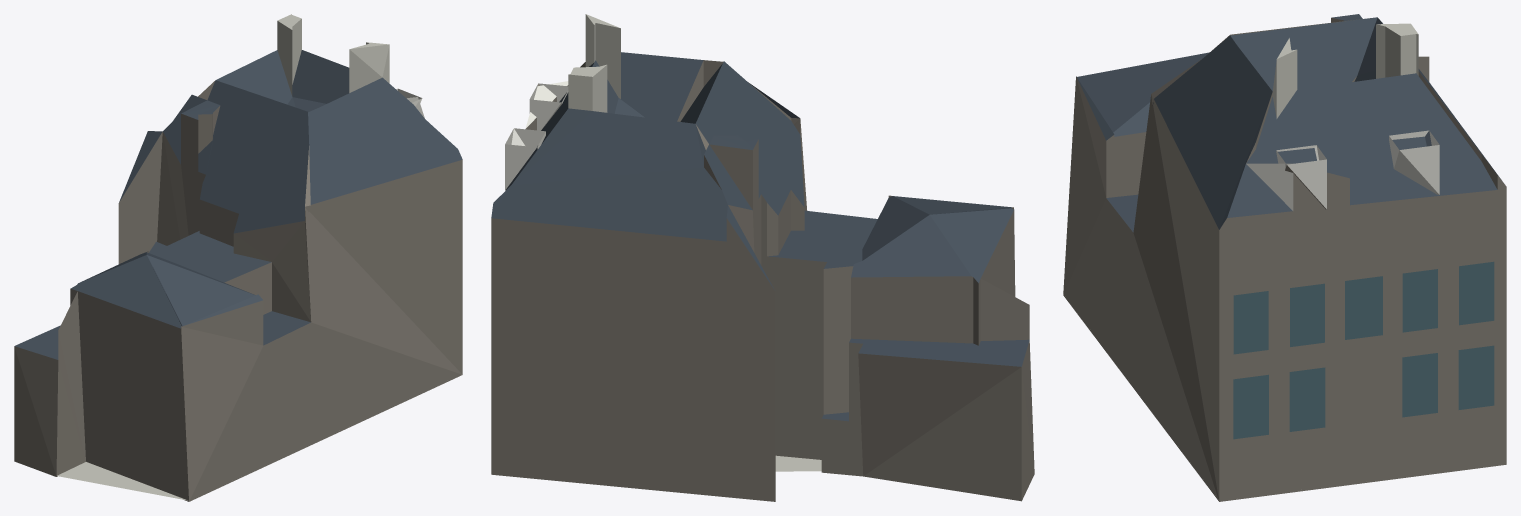
Rendered from collectie-six.lod2.glb.
The picture shows the model from 3 angles, left to right: view 1: azimuth 30°, elevation 25°; view 2: azimuth 150°, elevation 25°; view 3: azimuth 270°, elevation 25°; orthographic projection. The views are drawn at different scales.
Visible parts, largest first — view 1: lod2; view 2: lod2; view 3: lod2.
Boxes of the visible parts, x1=… form: lod2: x1=14, y1=14, x2=462, y2=501; lod2: x1=491, y1=14, x2=1034, y2=501; lod2: x1=1063, y1=14, x2=1506, y2=501.
Bounding box in the file's own units: 30.6 × 22.44 × 21.9.
